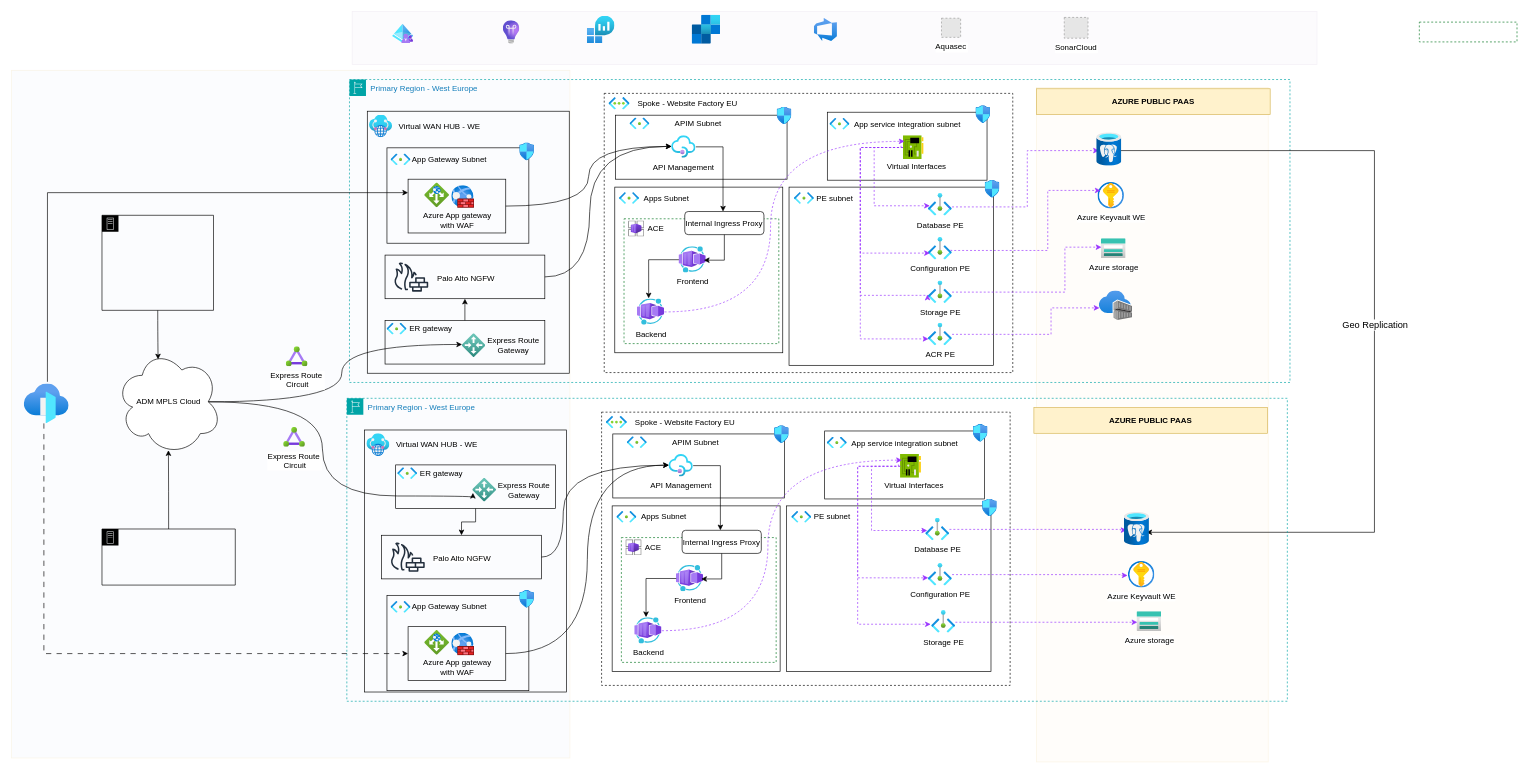
Image size: 1529x774. Some labels were removed from this diagram. Grey dashed boxes stand in for pictures. The shapes that lost their labels are listed below. From the top down, each one's centre as x and y in pixels, then its label:
the point at 402,33: Azure B2C
the point at 511,32: Apps insights
the point at 600,29: Logs Analytics
the point at 706,29: Sendgrid
the point at 825,29: Azure DevOps
the point at 1468,31: Shared resources
the point at 157,262: Saint-Nolff Site
the point at 1115,305: Azure Container Registry
the point at 46,403: Azure Front Door
the point at 168,556: Amsterdam Site
